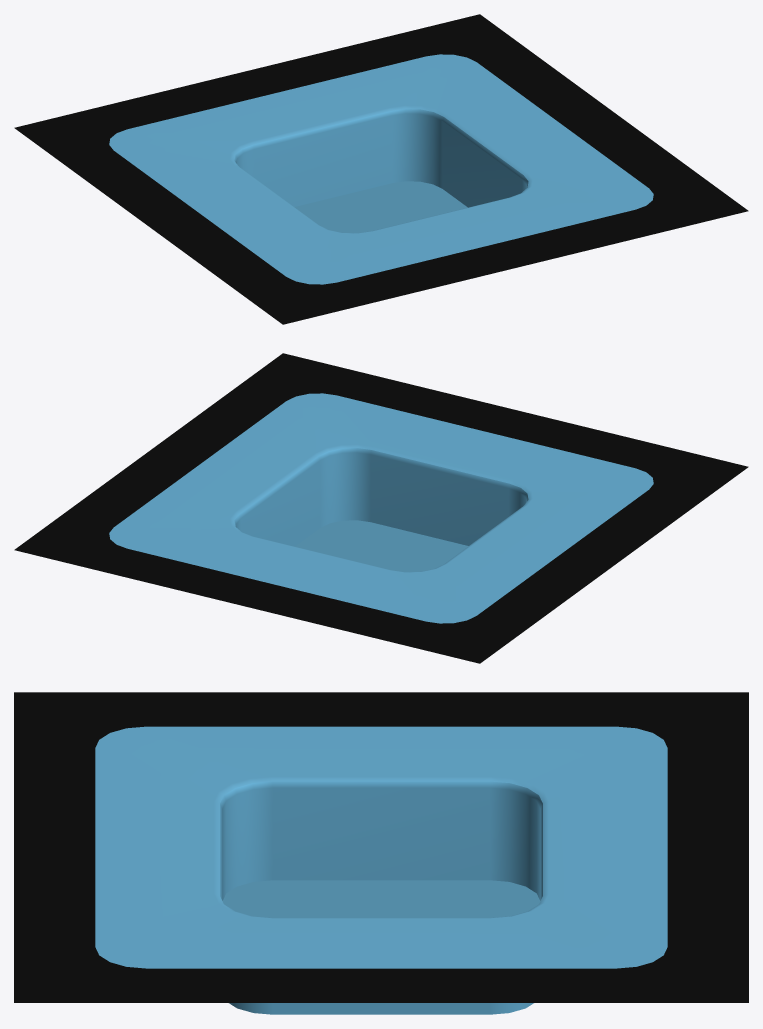
File: Cell_Blue_V3.fbx
The picture shows the model from 3 angles, top to bottom: view 1: azimuth 30°, elevation 25°; view 2: azimuth 150°, elevation 25°; view 3: azimuth 270°, elevation 25°; orthographic projection. The views are drawn at different scales.
Parts seen in each view (by area): view 1: Tile_Blue, Cell_Border; view 2: Tile_Blue, Cell_Border; view 3: Tile_Blue, Cell_Border.
Part boxes in pixels (box(x1,y1,x2,y2)): Tile_Blue: box(109, 54, 653, 284); Cell_Border: box(14, 14, 748, 324); Tile_Blue: box(109, 393, 653, 623); Cell_Border: box(14, 353, 748, 663); Tile_Blue: box(95, 726, 667, 1014); Cell_Border: box(14, 692, 748, 1002).
Bounding box in the file's own units: 112 × 16.8 × 112.
